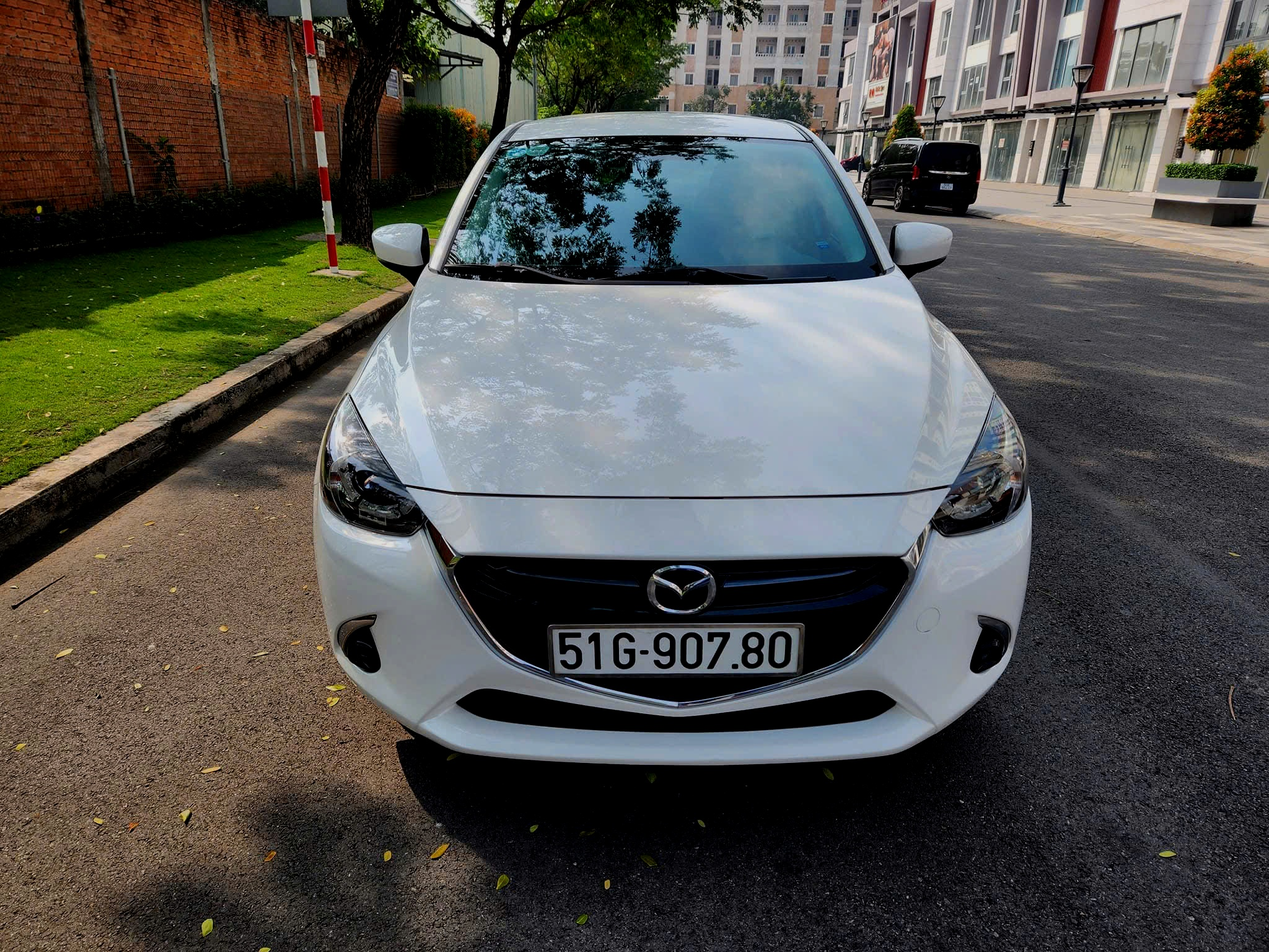Bien-so: (546, 641, 798, 708)
